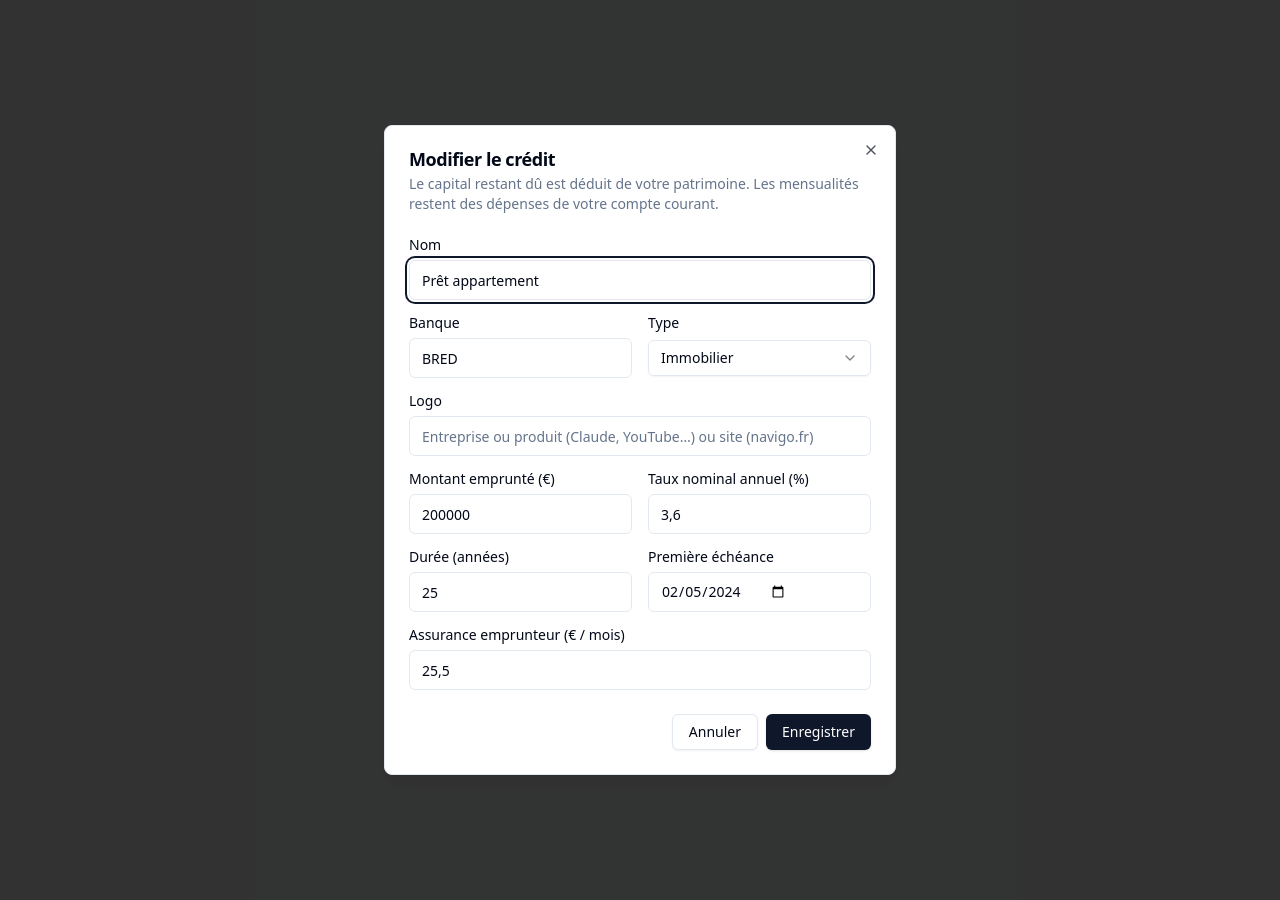
Test case: LoanDialog › préremplit un crédit existant et l'enregistre par PATCH
This screenshot has width=1280, height=900.
Expected: the field labelled "Montant emprunté (€)" holds "200000", x1=409 y1=494 x2=632 y2=534
Expected: the field labelled "Taux nominal annuel (%)" holds "3,6", x1=648 y1=494 x2=871 y2=534
Click the button "Enregistrer".
click(818, 732)  # box x1=766 y1=714 x2=871 y2=750
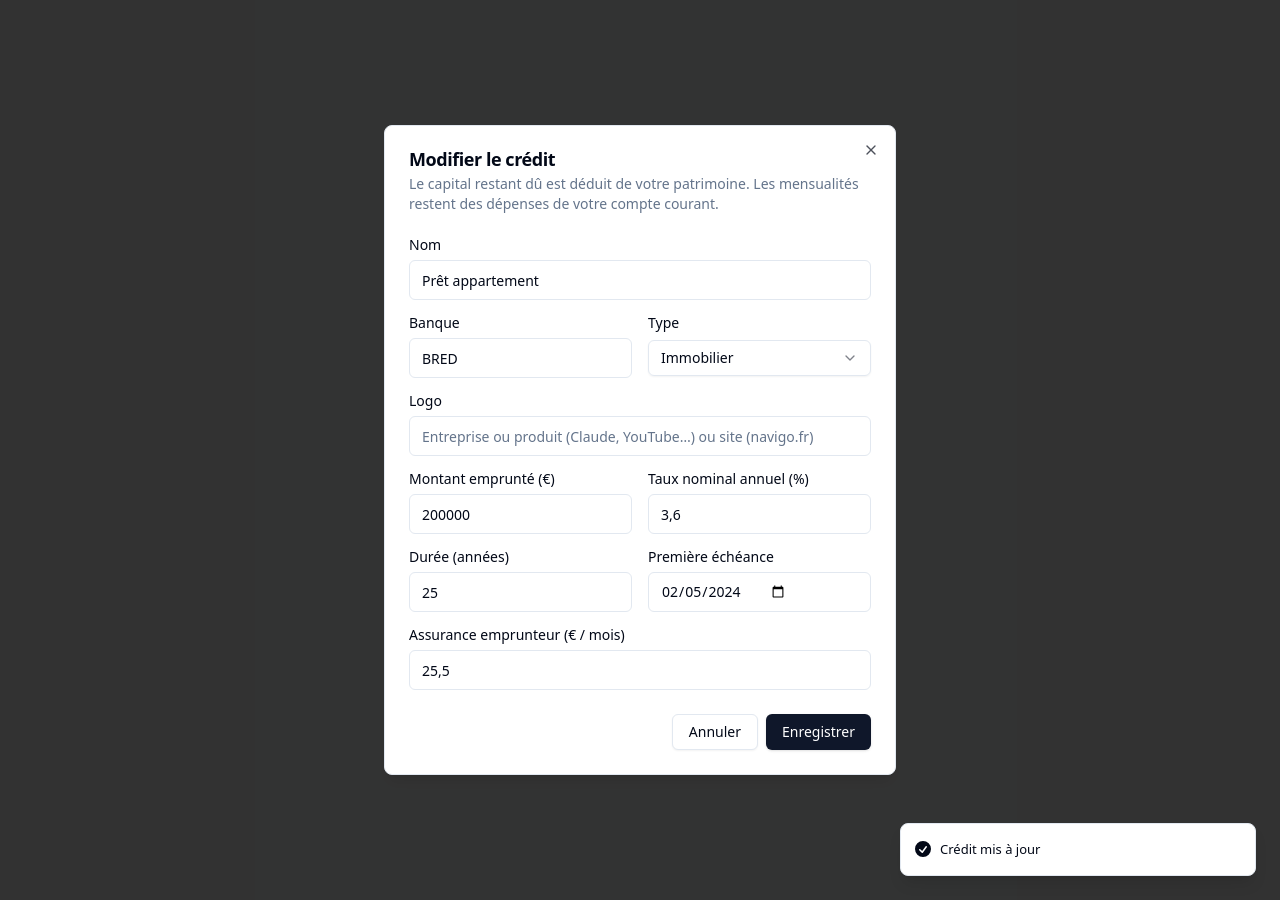
Now the text "Crédit mis à jour" is shown, box x1=940 y1=840 x2=1040 y2=859
